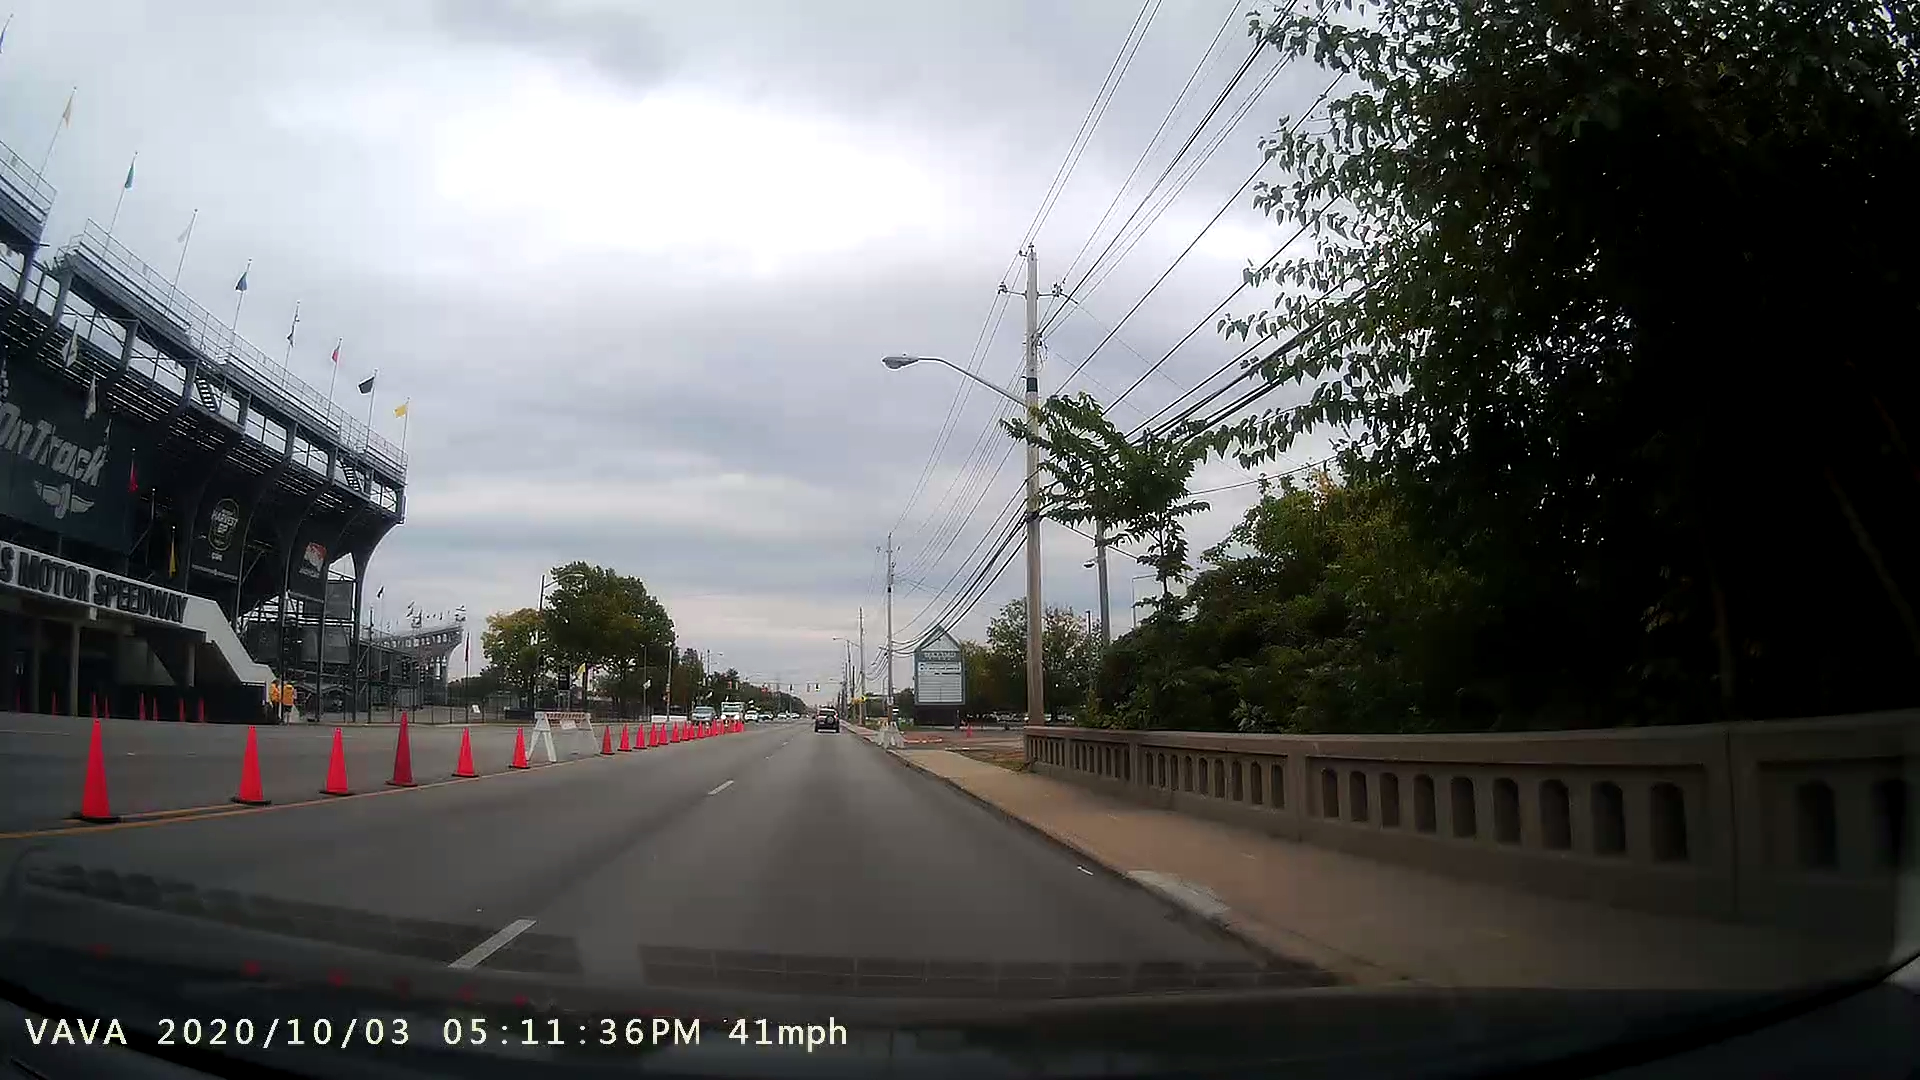const_cone: (59, 699, 129, 832), (219, 709, 284, 822), (309, 705, 365, 802), (382, 691, 423, 798), (444, 716, 483, 791), (506, 713, 531, 771)
